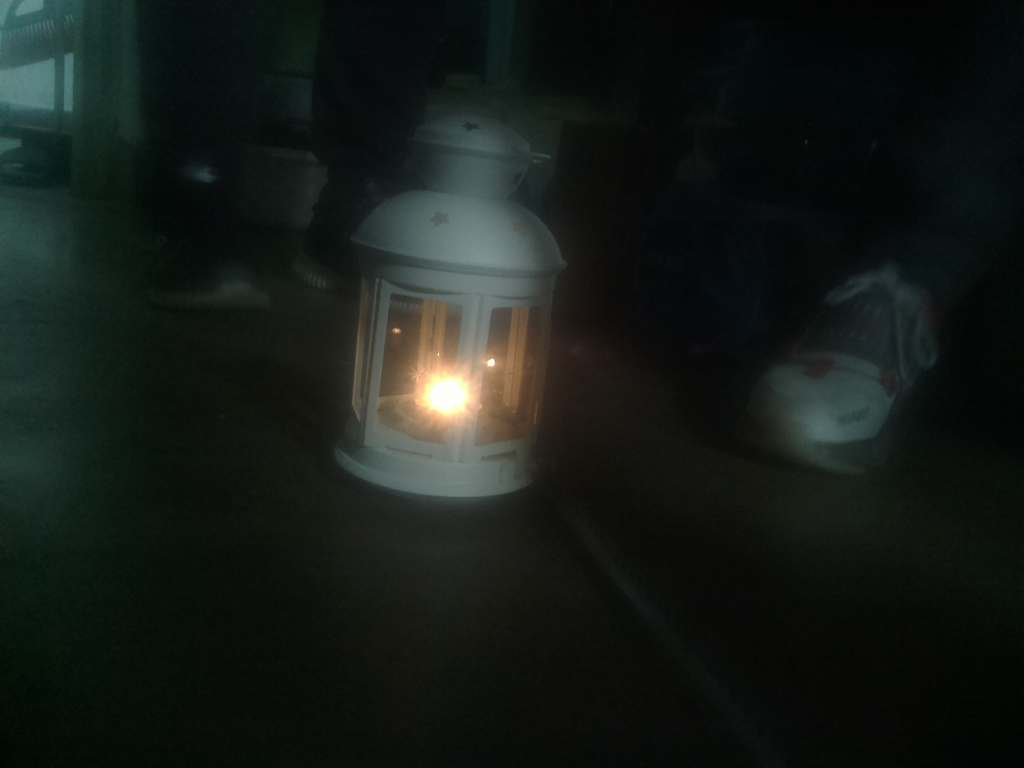fire: (389, 352, 504, 445)
